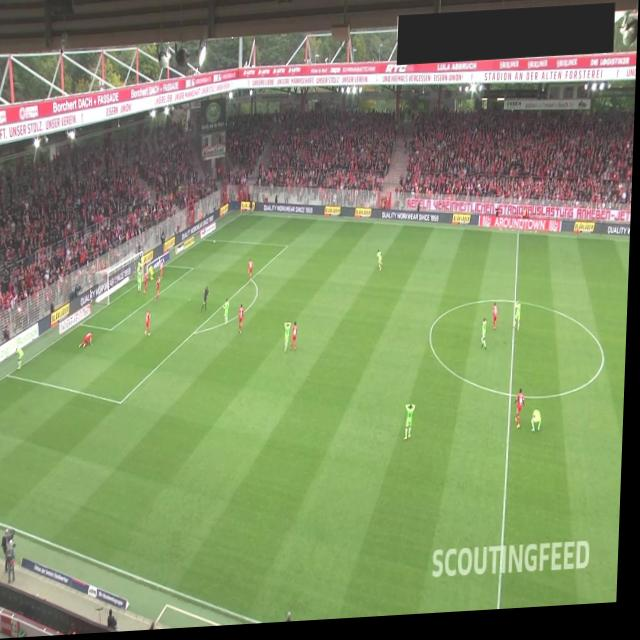goalkeeper: (150, 265, 158, 284)
player: (517, 394, 529, 436), (407, 408, 419, 445), (285, 324, 294, 358), (534, 415, 546, 438), (293, 324, 301, 355), (18, 345, 27, 372), (82, 333, 96, 350), (240, 305, 247, 337), (484, 324, 491, 356), (517, 306, 524, 338), (157, 277, 164, 305), (225, 300, 232, 328), (249, 261, 257, 285), (147, 312, 154, 338), (495, 308, 501, 336), (139, 269, 145, 297), (378, 253, 385, 275), (161, 261, 167, 283), (145, 271, 150, 295), (139, 260, 143, 284)
referee: (204, 289, 212, 315), (250, 198, 256, 218)
